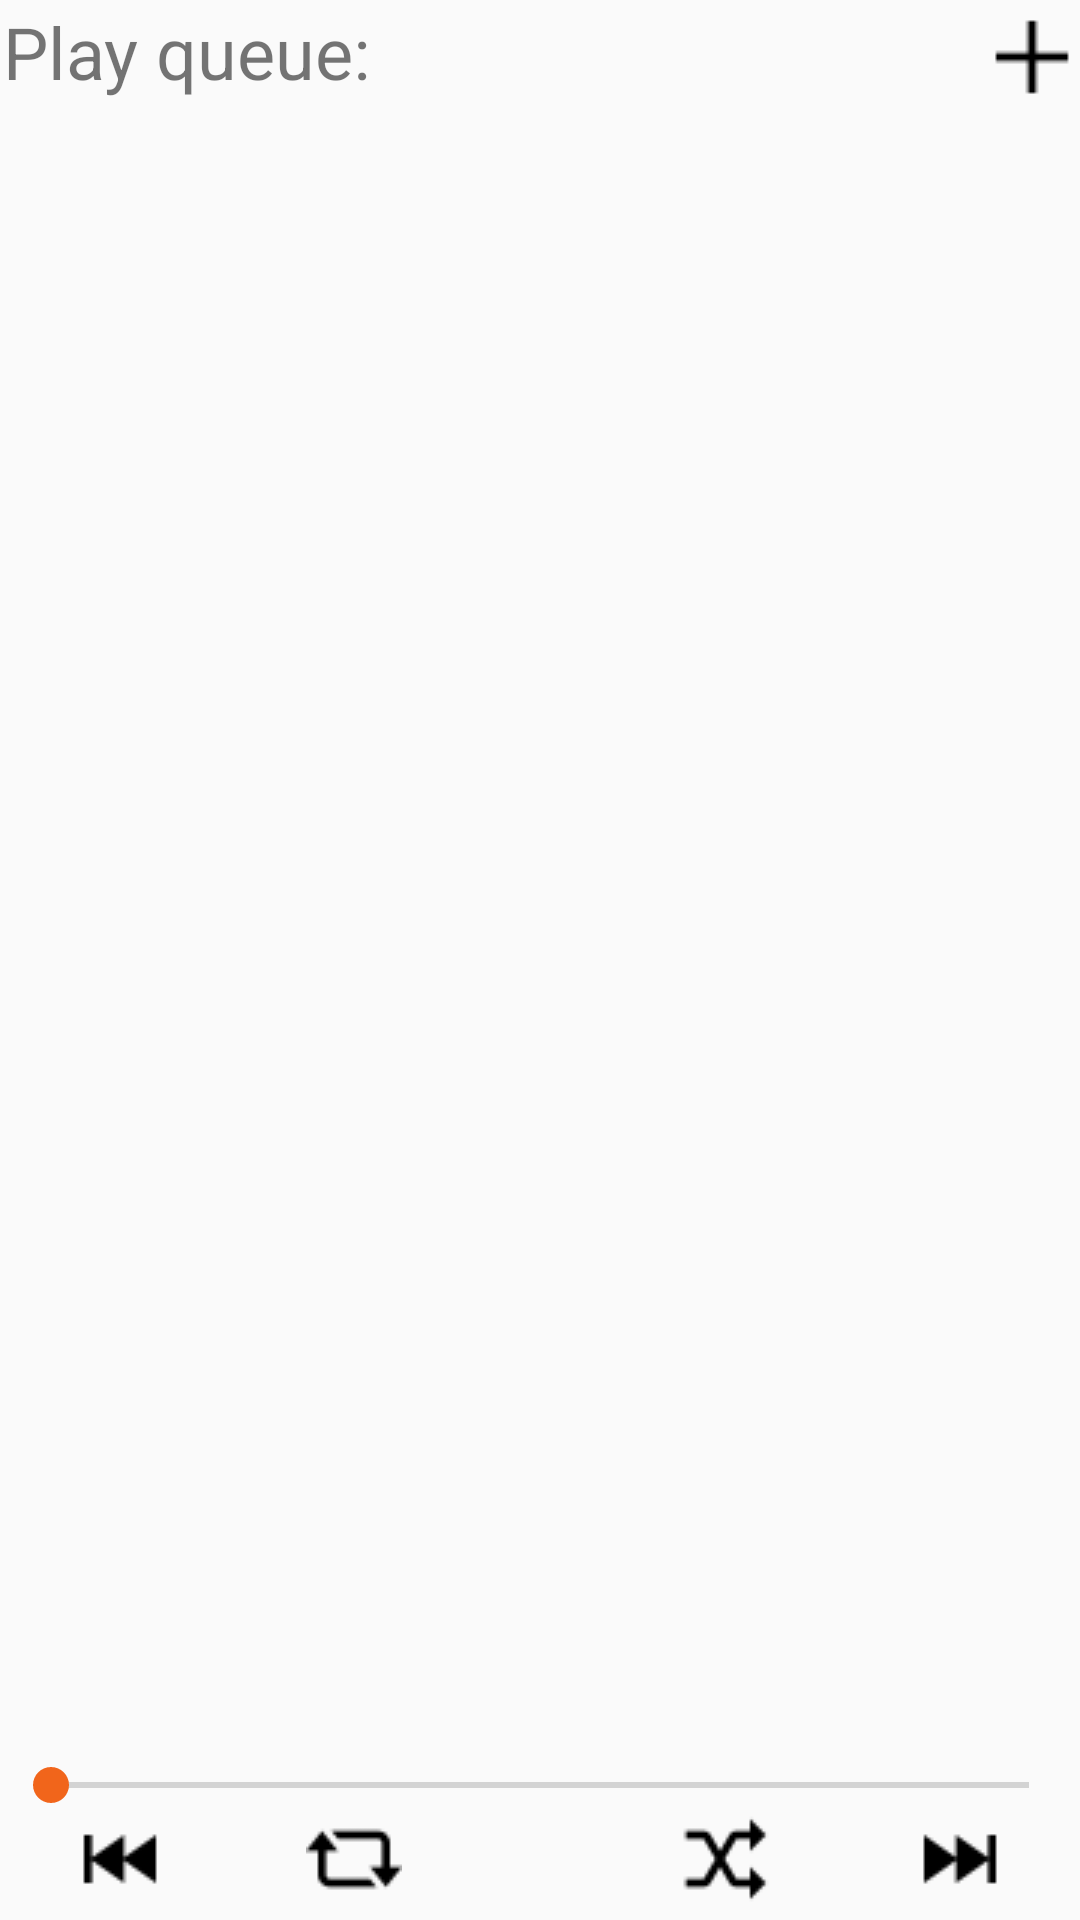

Where icons sit on this 1080×1920 app screen, as (x1, y1, x2, y2):
add: (995, 20, 1069, 94)
next: (923, 1834, 997, 1884)
prev: (83, 1834, 157, 1884)
repeat: (306, 1828, 402, 1890)
shuffle: (683, 1819, 766, 1899)
